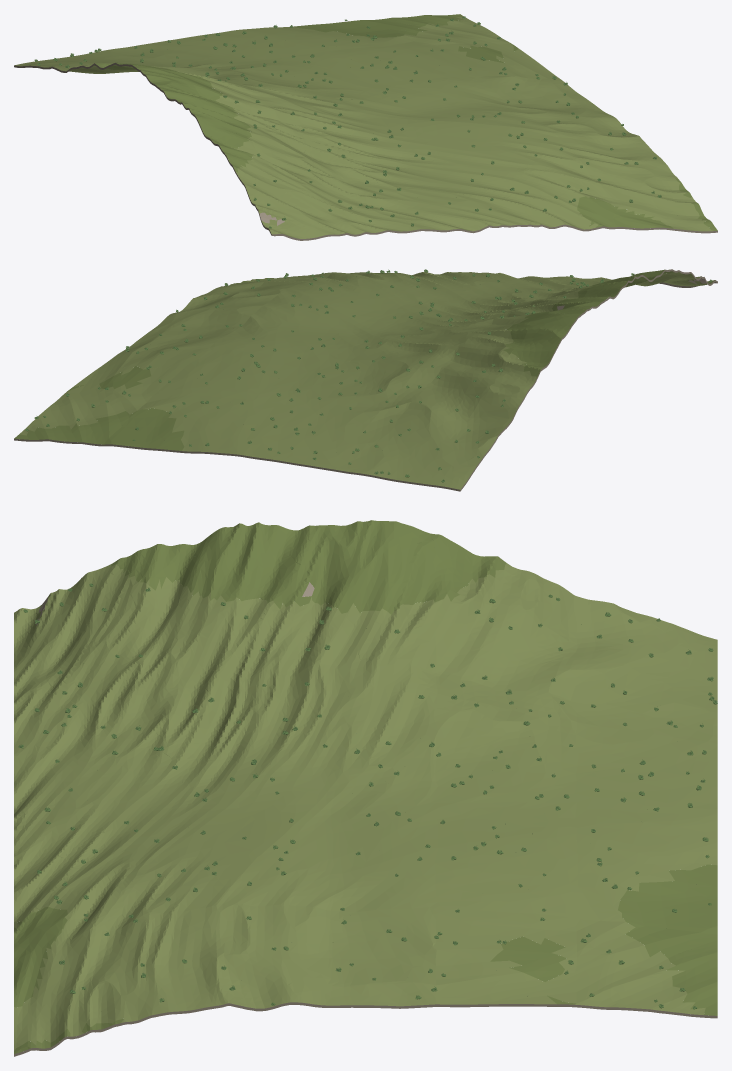
File: parca_+9_-5-yakin.glb
3 renders of one model, top to bottom at view 1: azimuth 30°, elevation 25°; view 2: azimuth 150°, elevation 25°; view 3: azimuth 270°, elevation 25°, orthographic. The views are drawn at different scales.
Parts seen in each view (by area): view 1: parca_+9_-5_arazi, parca_+9_-5_bitkiler; view 2: parca_+9_-5_arazi, parca_+9_-5_bitkiler; view 3: parca_+9_-5_arazi, parca_+9_-5_bitkiler.
Part boxes in pixels (bbox=[...]): parca_+9_-5_arazi: bbox=[14, 14, 717, 240]; parca_+9_-5_bitkiler: bbox=[34, 16, 661, 228]; parca_+9_-5_arazi: bbox=[14, 269, 717, 491]; parca_+9_-5_bitkiler: bbox=[25, 269, 711, 482]; parca_+9_-5_arazi: bbox=[14, 520, 717, 1056]; parca_+9_-5_bitkiler: bbox=[17, 539, 717, 1009].
Size of the model in its own units: 1002 by 375 by 1000.
